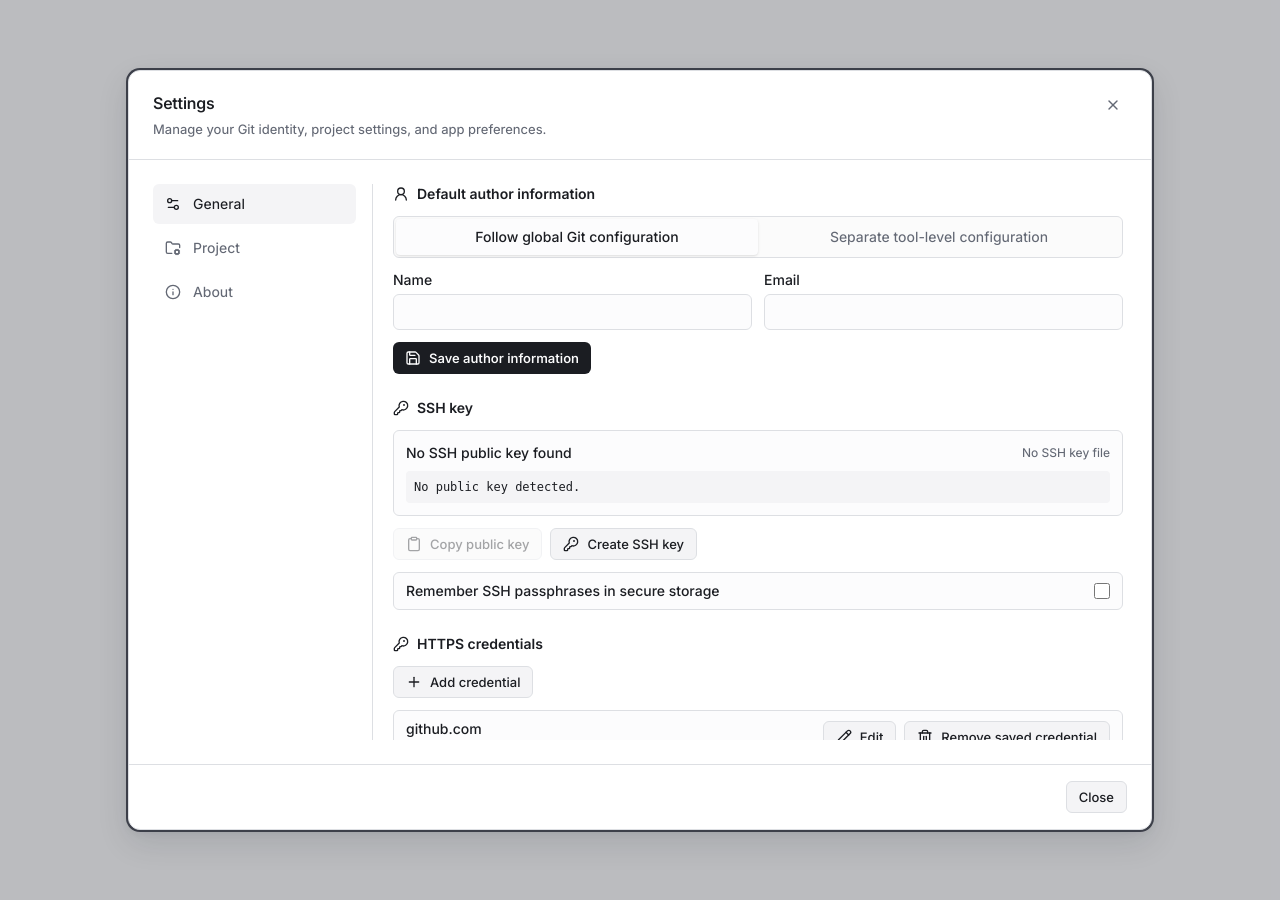
Test: SettingsModal › shows identity validation once beside the identity fields
Click the button "Save author information" at coordinates (492, 358), box [393,342,591,374]
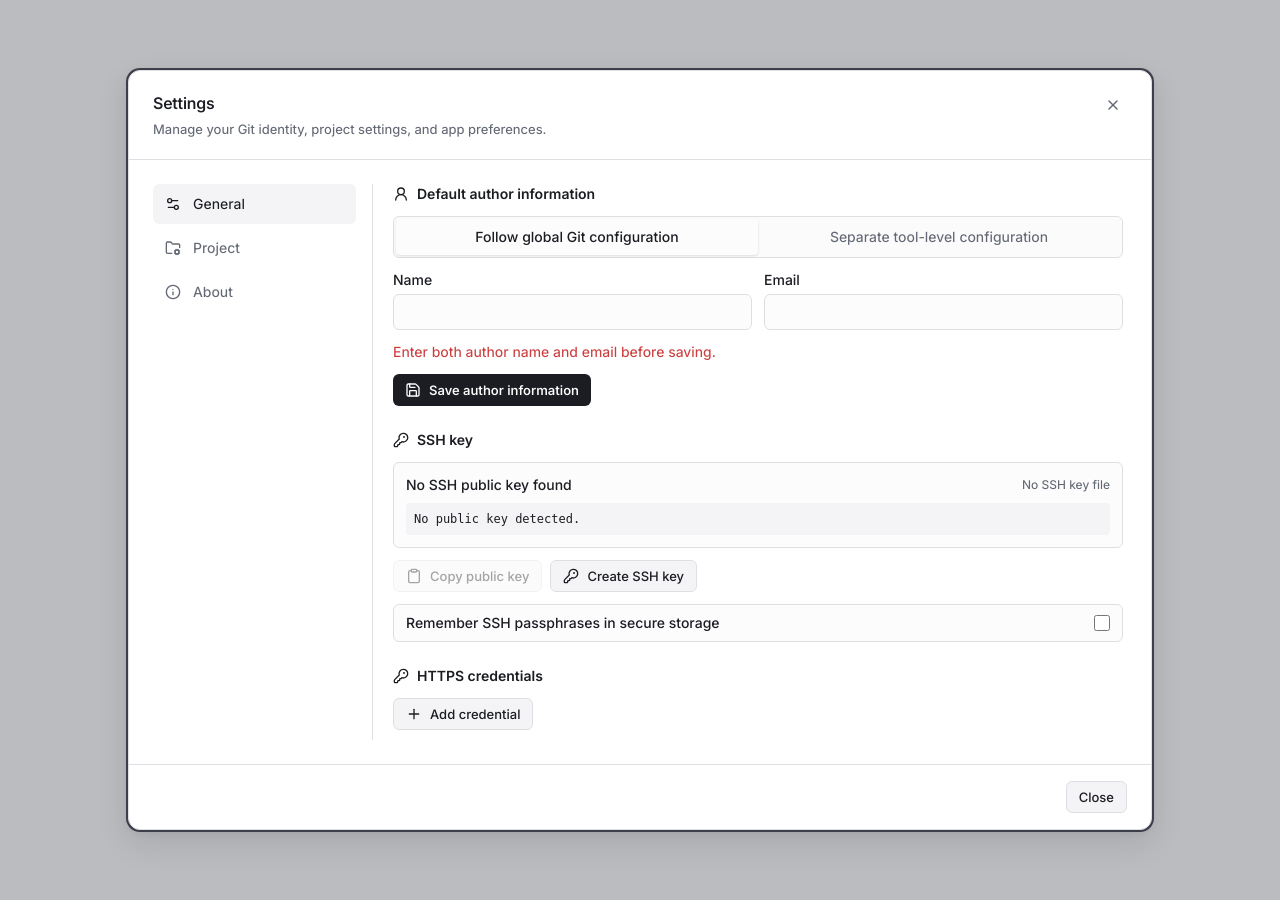
Check: the text "Enter both author name and email before saving." is shown once, box [393,343,716,360]
